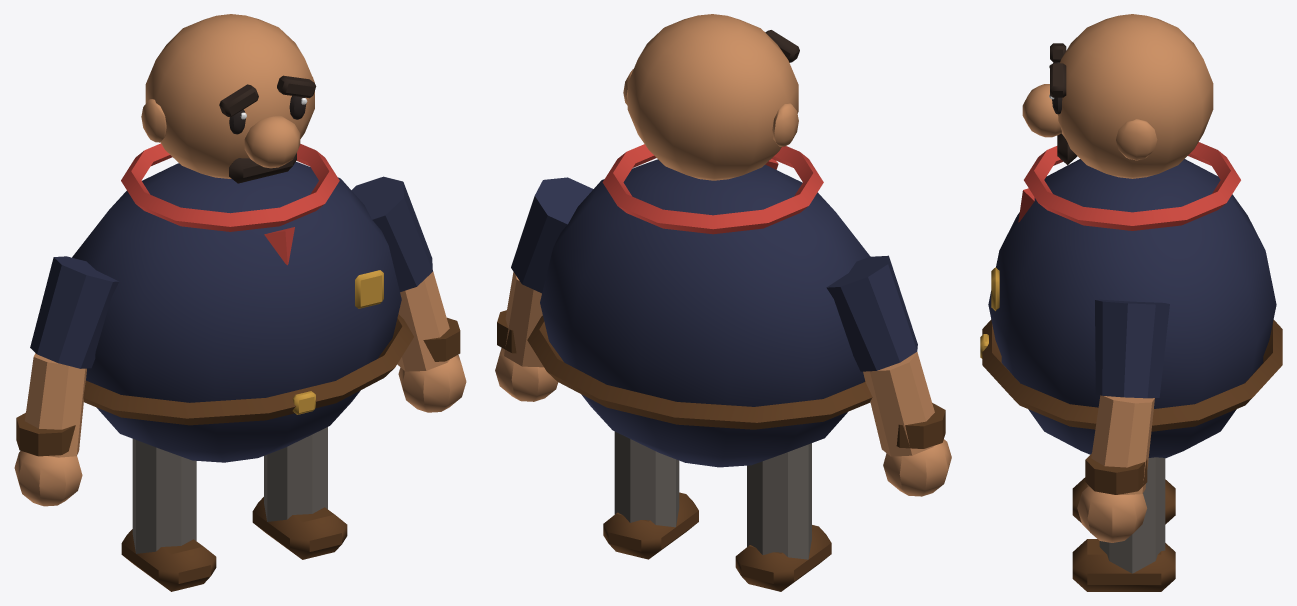
Rendered from CH_Staff_05_Fedai.fbx.
The picture shows the model from 3 angles, left to right: view 1: azimuth 30°, elevation 25°; view 2: azimuth 150°, elevation 25°; view 3: azimuth 270°, elevation 25°; orthographic projection.
Visible parts, largest first — view 1: CH_Staff_05_Fedai; view 2: CH_Staff_05_Fedai; view 3: CH_Staff_05_Fedai.
Boxes of the visible parts, x1=… form: CH_Staff_05_Fedai: x1=14, y1=14, x2=466, y2=591; CH_Staff_05_Fedai: x1=495, y1=14, x2=951, y2=591; CH_Staff_05_Fedai: x1=980, y1=14, x2=1282, y2=591.
Size of the model in its own units: 1.24 by 1.42 by 0.7343.
